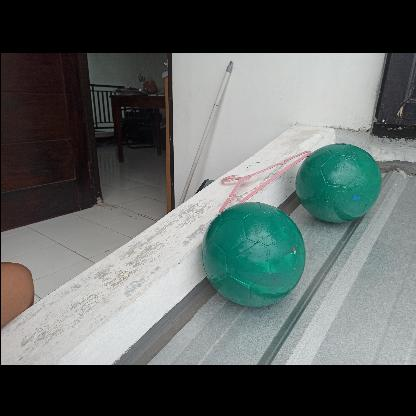green_ball: (201, 201, 307, 307), (298, 140, 382, 224)
